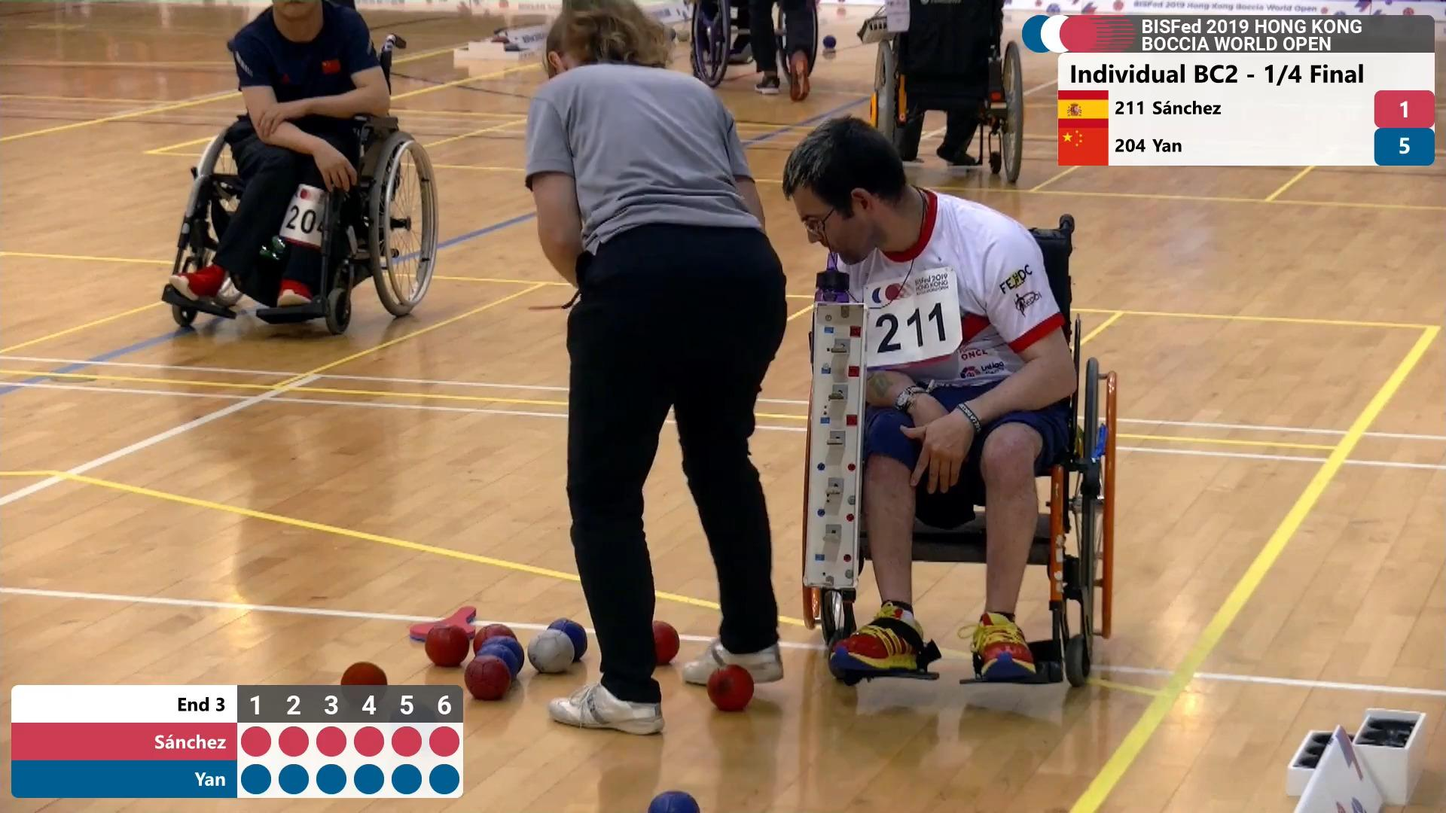red_ball: (703, 661, 756, 713), (466, 657, 511, 698), (429, 624, 470, 667)
white_ball: (531, 628, 575, 677)
